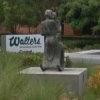Statue: (29, 5, 80, 74)
